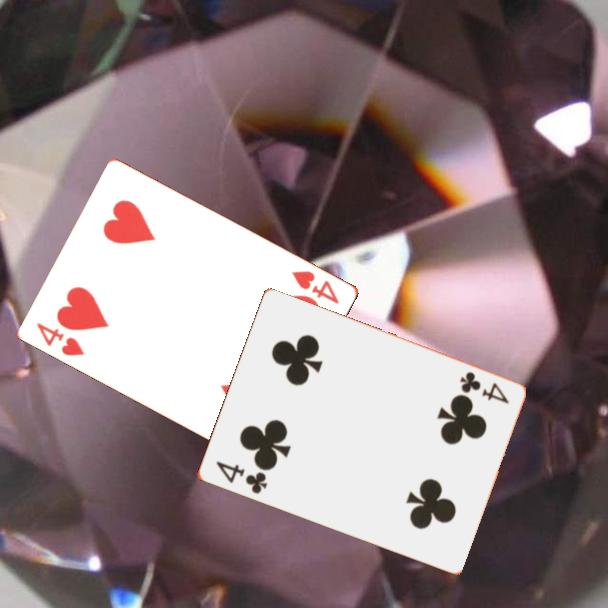c04: (212, 458, 270, 497), (456, 368, 511, 407)
h04: (34, 319, 89, 359), (288, 267, 342, 307)
